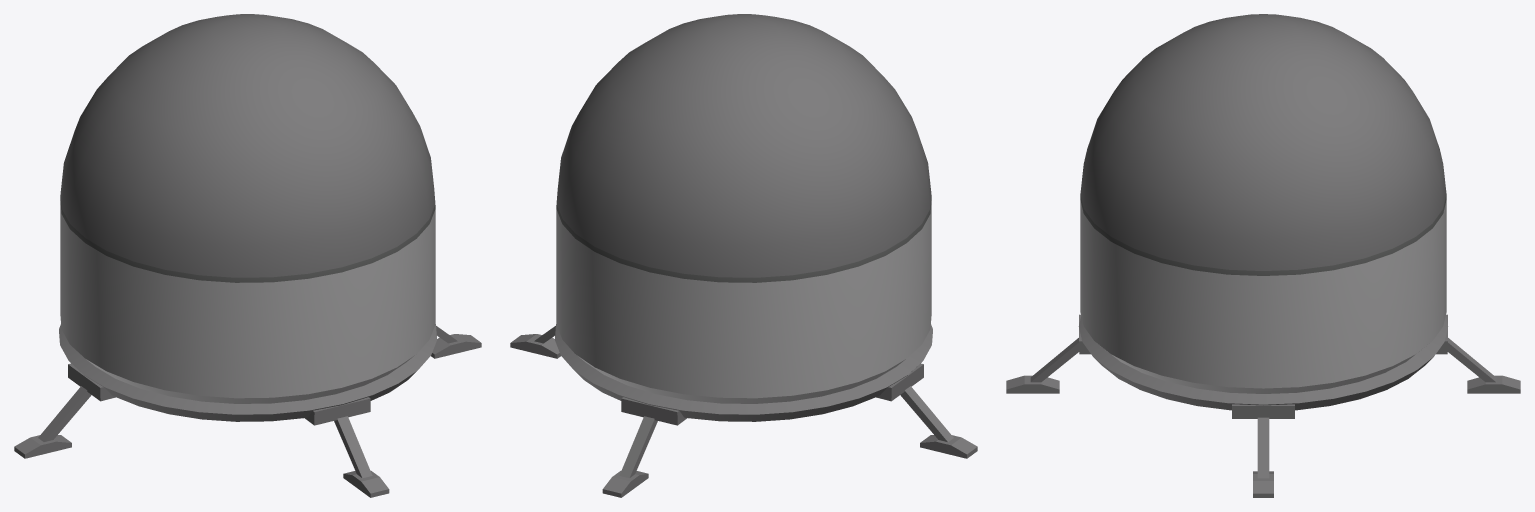
File: House_Cylinder_Cube.obj
The picture shows the model from 3 angles, left to right: view 1: azimuth 30°, elevation 25°; view 2: azimuth 150°, elevation 25°; view 3: azimuth 270°, elevation 25°; orthographic projection. The views are drawn at different scales.
Parts seen in each view (by area): view 1: House_Cylinder_Cube.046; view 2: House_Cylinder_Cube.046; view 3: House_Cylinder_Cube.046.
Boxes of the visible parts, x1=… form: House_Cylinder_Cube.046: x1=14, y1=14, x2=481, y2=497; House_Cylinder_Cube.046: x1=510, y1=14, x2=977, y2=497; House_Cylinder_Cube.046: x1=1006, y1=14, x2=1520, y2=497.
Bounding box in the file's own units: 5.61 × 4.32 × 5.61.
